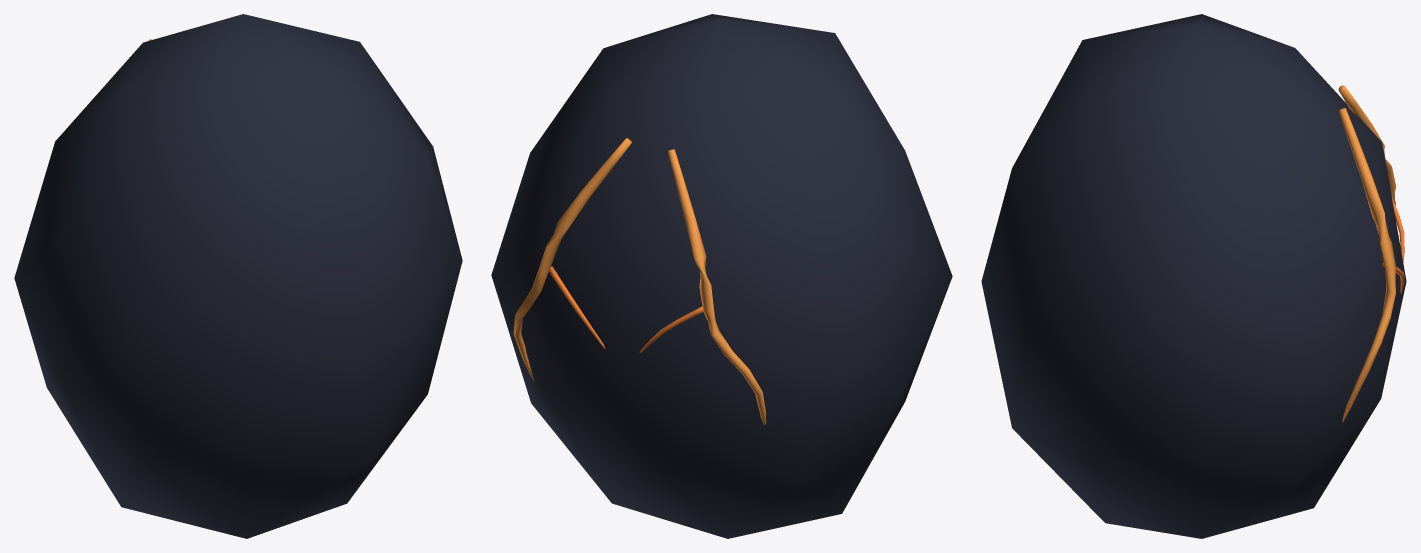
File: Meteor.glb
3 views of the same model, side by side, from view 1: azimuth 30°, elevation 25°; view 2: azimuth 150°, elevation 25°; view 3: azimuth 270°, elevation 25° (orthographic).
Visible parts, largest first — view 1: Meteor__Body; view 2: Meteor__Body; view 3: Meteor__Body.
Part boxes in pixels (x1=…): Meteor__Body: x1=14, y1=14, x2=462, y2=538; Meteor__Body: x1=491, y1=14, x2=952, y2=538; Meteor__Body: x1=981, y1=14, x2=1406, y2=538.
Size of the model in its own units: 1.98 by 2.6 by 1.95.
Materials: 1 (1 with a texture image).
